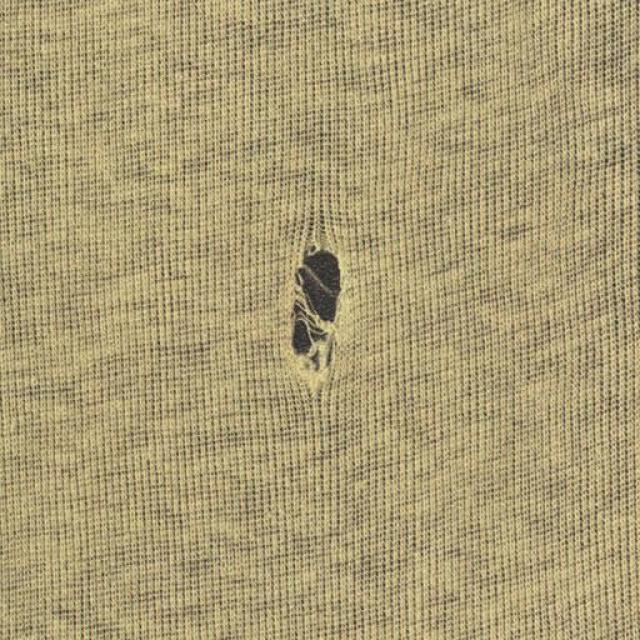Hole: (291, 245, 342, 394)
